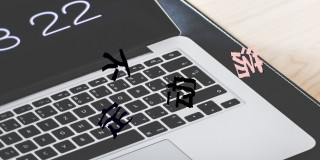不: (102, 48, 131, 81)
动: (166, 76, 197, 108)
定: (98, 103, 133, 139)
荡: (231, 46, 264, 78)
